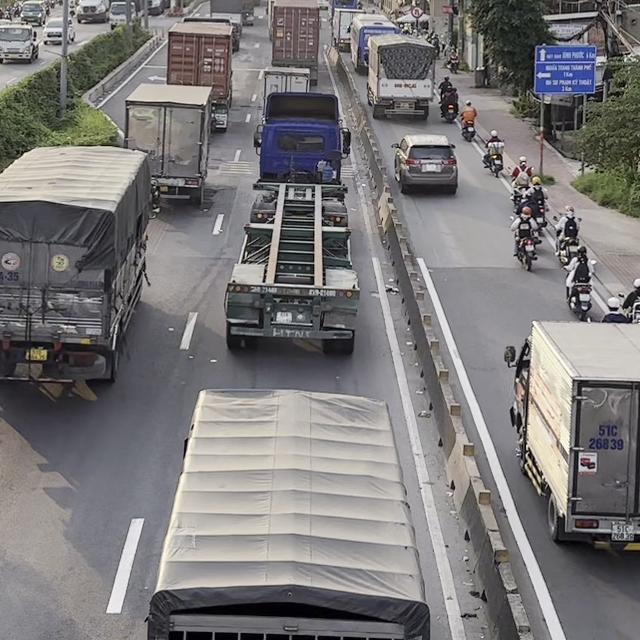bus: (349, 13, 401, 74)
car: (390, 133, 458, 193)
motorcycle: (563, 259, 597, 321), (509, 217, 541, 271), (553, 215, 582, 265), (485, 139, 506, 177), (459, 116, 476, 141), (440, 102, 457, 123)
truck: (144, 386, 431, 639), (0, 143, 161, 384), (223, 92, 360, 354), (504, 319, 639, 554), (123, 81, 217, 207), (166, 18, 233, 132), (366, 34, 437, 120), (271, 0, 320, 85), (261, 66, 311, 119), (331, 6, 368, 51), (0, 24, 41, 63), (75, 0, 108, 23)
